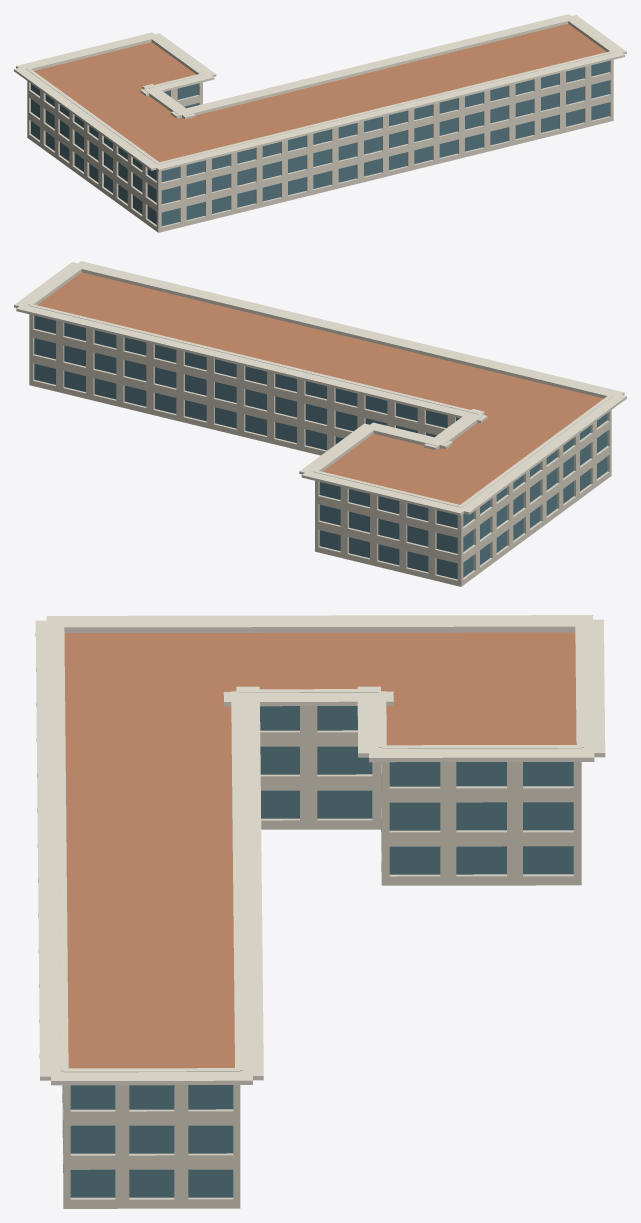
The model's file is pharma_rc.far.glb.
3 renders of one model, top to bottom at view 1: azimuth 30°, elevation 25°; view 2: azimuth 150°, elevation 25°; view 3: azimuth 270°, elevation 25°, orthographic. The views are drawn at different scales.
Parts seen in each view (by area): view 1: roof, wall, glass, trim; view 2: roof, wall, glass, trim; view 3: roof, trim, wall, glass.
Part boxes in pixels (x1,y1,x2,y2): roof: (34,24,606,162); wall: (27,60,613,232); glass: (31,61,609,226); trim: (14,14,626,171); roof: (37,272,603,504); wall: (29,314,611,586); glass: (34,315,607,579); trim: (14,261,626,515); roof: (64,632,576,1068); trim: (35,615,605,1085); wall: (62,706,581,1208); glass: (70,706,573,1197).
Size of the model in its own units: 70.38 by 9.74 by 36.35.
